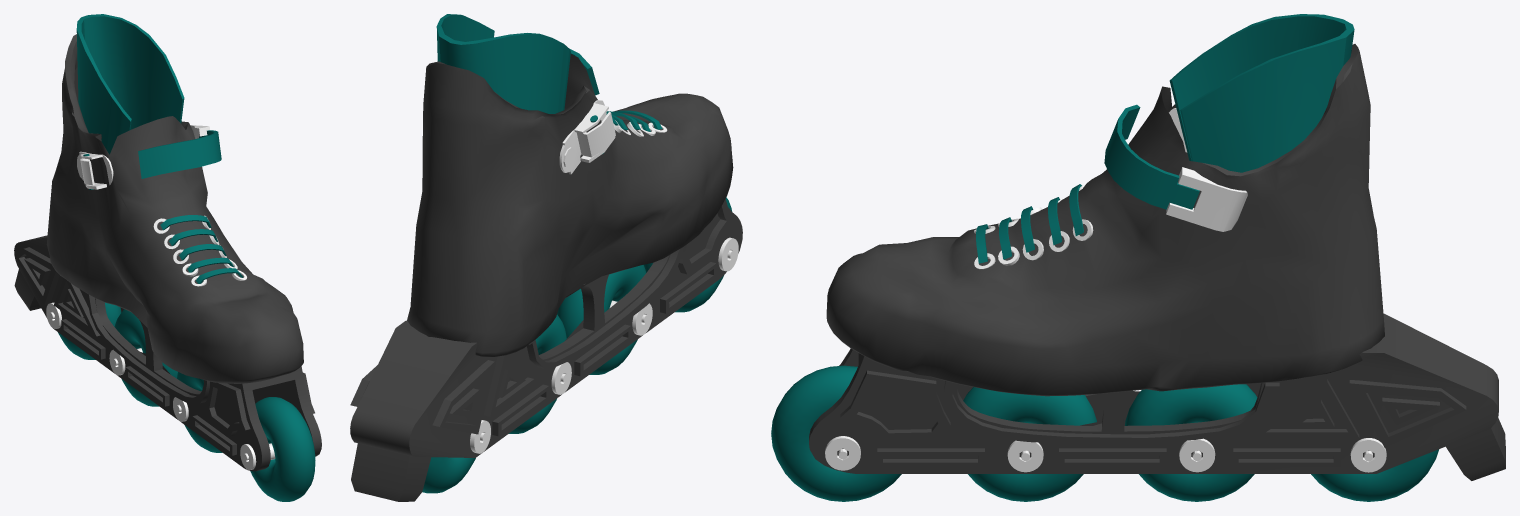
The model's file is Roller.FBX.
3 views of the same model, side by side, from view 1: azimuth 30°, elevation 25°; view 2: azimuth 150°, elevation 25°; view 3: azimuth 270°, elevation 25° (orthographic). The views are drawn at different scales.
Parts seen in each view (by area): view 1: shoe01, ins01, rail01, trim01, wheels01, buckle01, laces01, accesor01, rings01, brake01; view 2: shoe01, rail01, trim01, ins01, wheels01, brake01, buckle01, accesor01, laces01; view 3: shoe01, rail01, wheels01, ins01, trim01, buckle01, accesor01, brake01, laces01, rings01.
Boxes of the visible parts, <box> form: shoe01: <box>46,34,303,383</box>; ins01: <box>76,14,184,154</box>; rail01: <box>14,235,321,471</box>; trim01: <box>14,247,314,455</box>; wheels01: <box>58,302,315,501</box>; buckle01: <box>77,125,221,189</box>; laces01: <box>160,215,243,283</box>; accesor01: <box>46,302,275,470</box>; rings01: <box>153,215,246,286</box>; brake01: <box>14,269,40,310</box>; shoe01: <box>407,54,733,356</box>; rail01: <box>350,207,742,457</box>; trim01: <box>350,199,734,436</box>; ins01: <box>436,14,570,113</box>; wheels01: <box>422,197,732,493</box>; brake01: <box>351,443,431,501</box>; buckle01: <box>559,49,615,174</box>; accesor01: <box>470,237,738,453</box>; laces01: <box>606,110,662,131</box>; shoe01: <box>826,44,1384,396</box>; rail01: <box>809,313,1498,473</box>; wheels01: <box>771,365,1438,501</box>; ins01: <box>1169,14,1354,172</box>; trim01: <box>840,370,1466,466</box>; buckle01: <box>1104,104,1247,231</box>; accesor01: <box>825,436,1386,472</box>; brake01: <box>1446,418,1505,480</box>; laces01: <box>976,184,1083,263</box>; rings01: <box>974,183,1093,269</box>.
Size of the model in its own units: 1.9 by 4.96 by 7.05.
